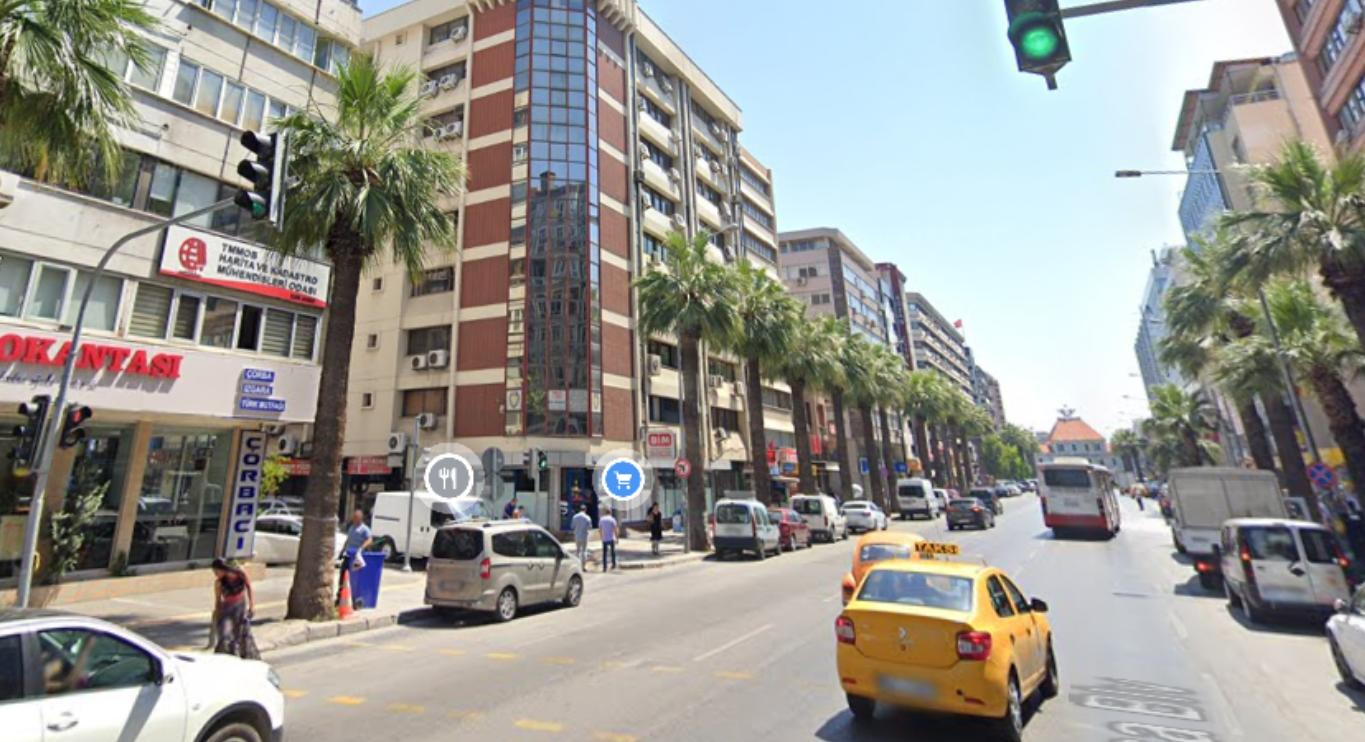greenlight: (229, 124, 292, 231)
